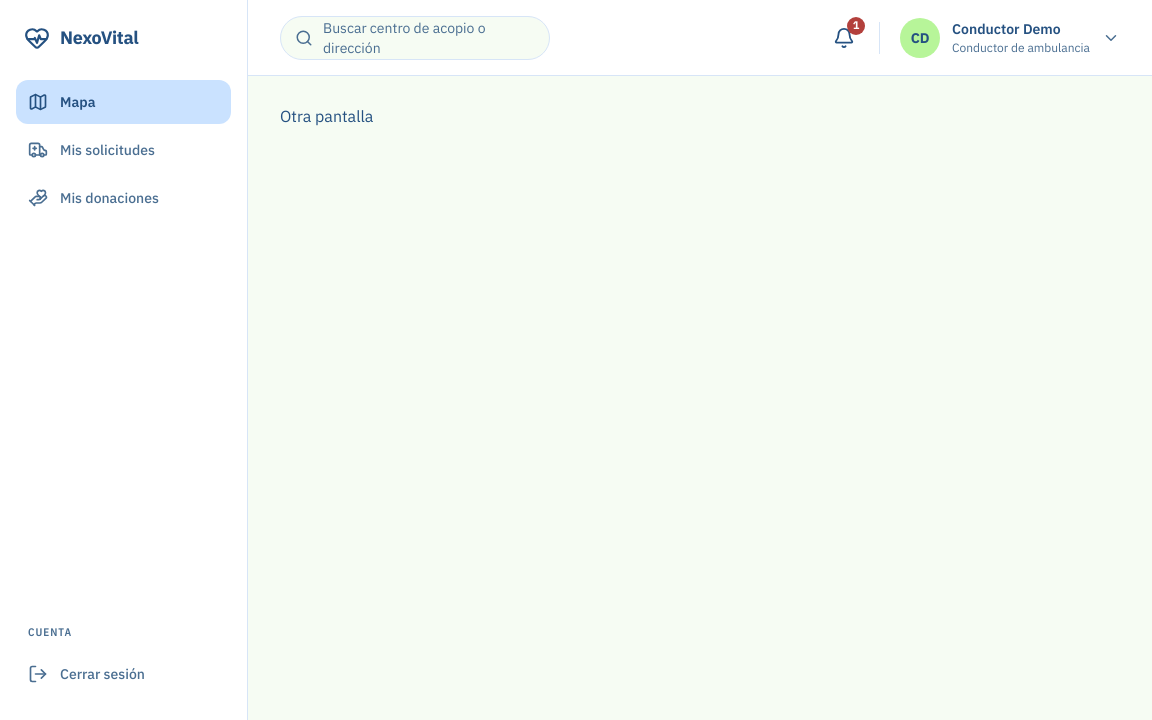
it: AppFrame › navigates to the map and signals the focus when a notification is opened
This screenshot has width=1152, height=720.
Click the button named "Notificaciones" at coordinates (844, 38), box [829, 22, 859, 52]
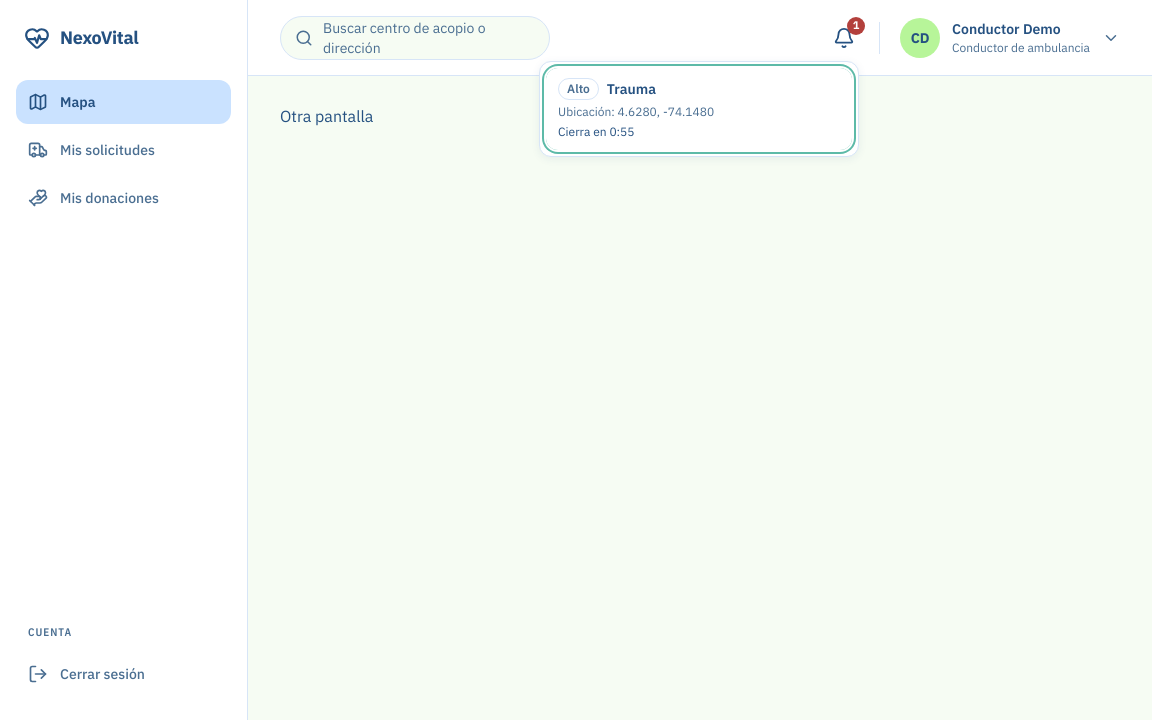
Click the menu item "Alto Trauma Ubicación: 4.6280, -74.1480 Cierra en 0:55" at coordinates (699, 108), box [546, 68, 852, 150]
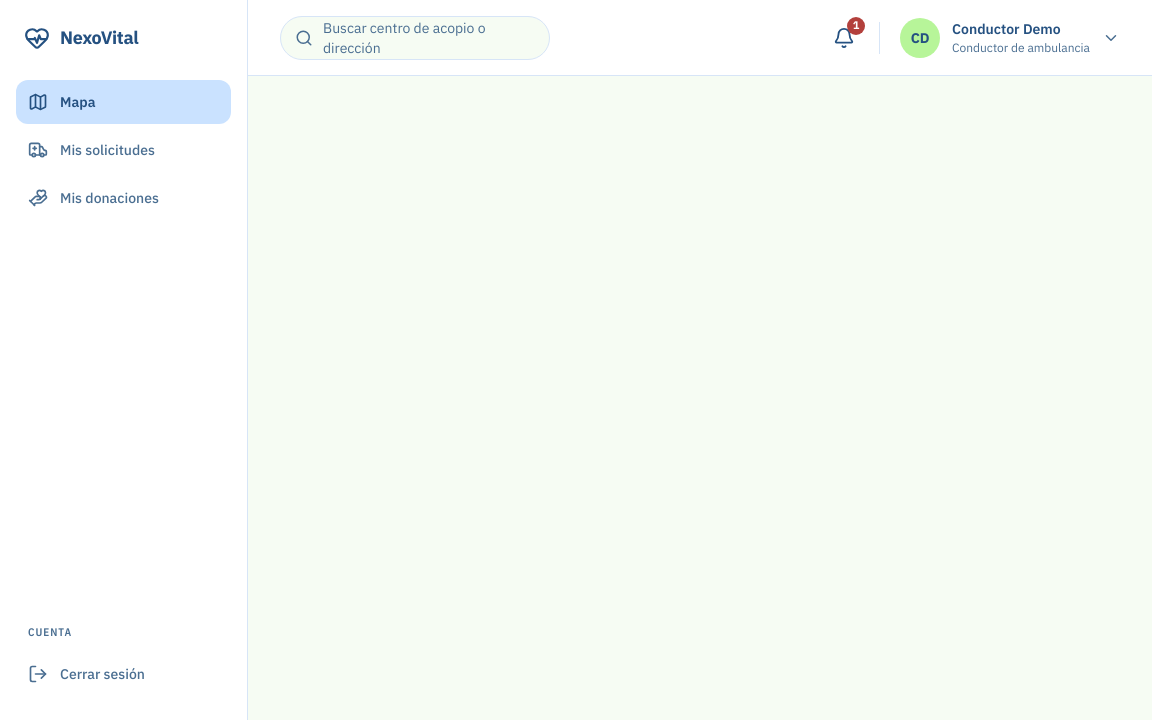
Expected: the menu "Alto Trauma Ubicación: 4.6280, -74.1480 Cierra en 0:55" is gone
